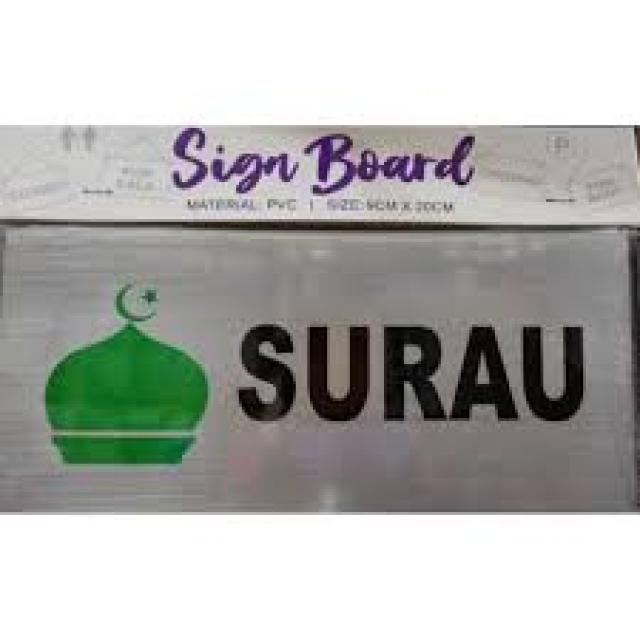surau_icon: (36, 264, 219, 488)
